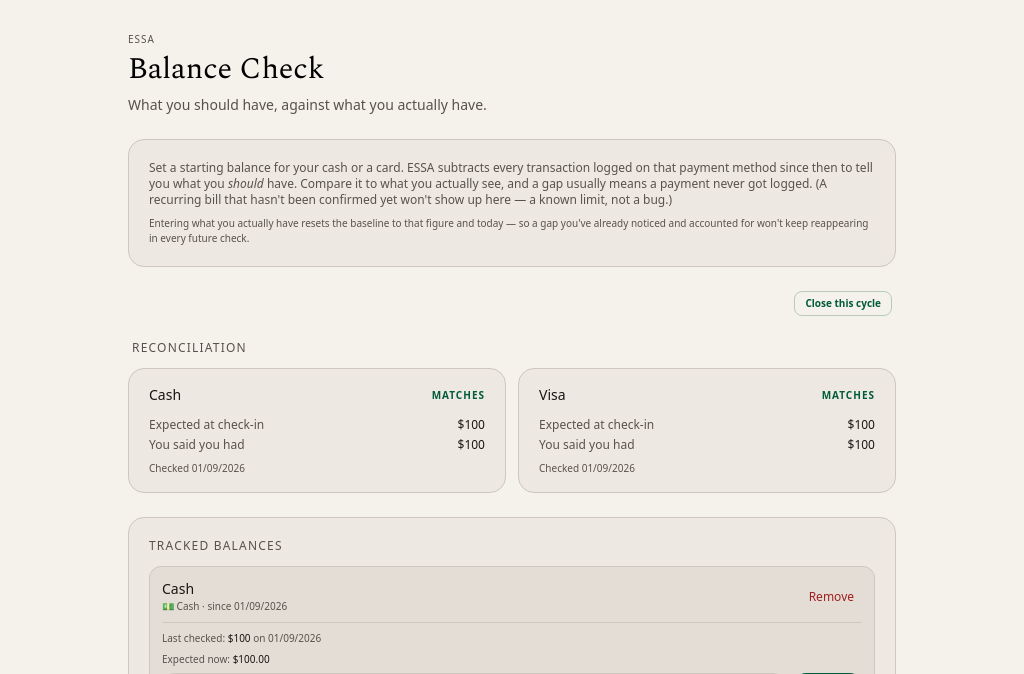
Test case: a dollar Cash balance's close row has the lira field and the drafted note; a card's doesn't
Click the button "Close this cycle".
click(843, 304)  # box left=794, top=291, right=892, bottom=316
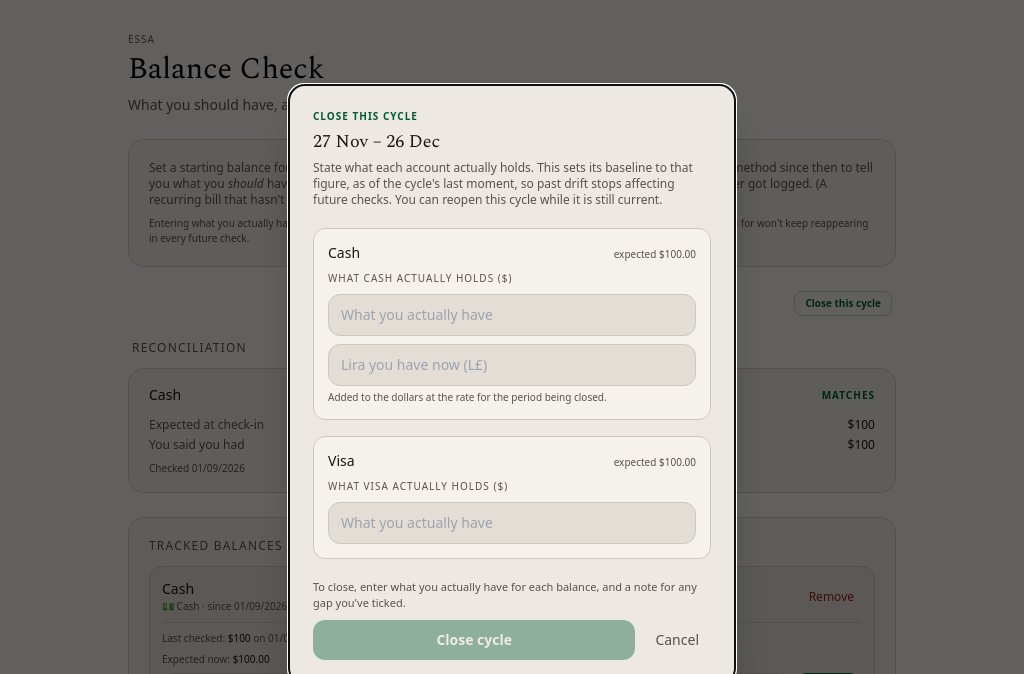
Result: the number of fields with placeholder "Lira you have now (L£)" is 1 at left=328, top=344, right=696, bottom=386
Result: the text "Added to the dollars at the rate for the period being closed." is shown once at left=328, top=390, right=607, bottom=404
